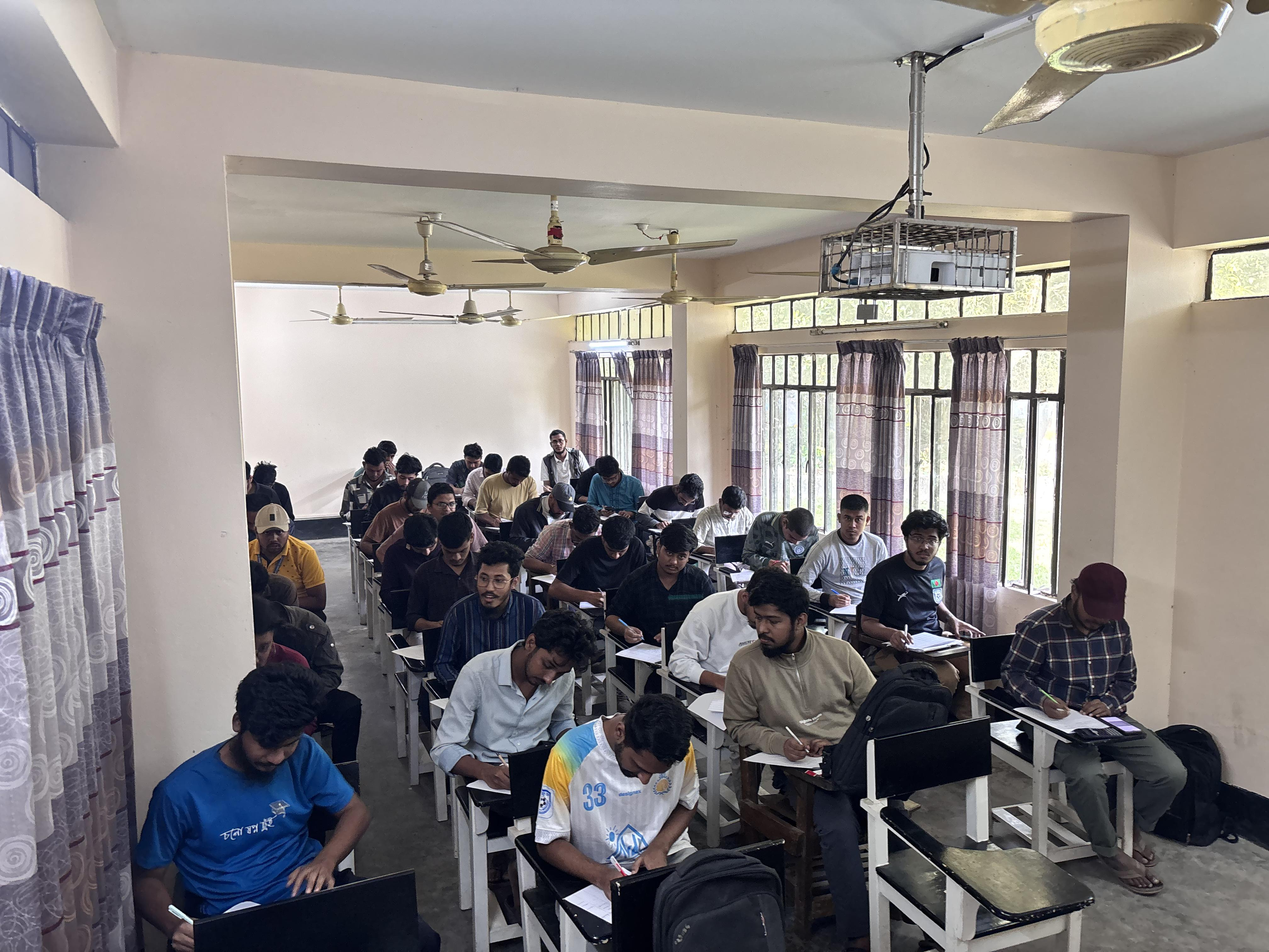copying: (732, 581, 866, 783)
no_cheating: (146, 664, 364, 918), (546, 687, 707, 934), (456, 609, 591, 813), (424, 512, 482, 631), (648, 527, 708, 630), (819, 491, 882, 583), (255, 501, 309, 574), (752, 501, 804, 562), (592, 518, 636, 588), (650, 472, 701, 524), (396, 511, 439, 570), (539, 427, 581, 482), (705, 485, 746, 537), (348, 451, 393, 497), (501, 457, 540, 510), (585, 457, 627, 502), (563, 503, 602, 545), (423, 483, 460, 521), (544, 479, 576, 522), (458, 440, 483, 476), (389, 456, 419, 479)
side_talking: (465, 549, 520, 637)
using_phone: (1022, 545, 1172, 788), (887, 505, 987, 675)
